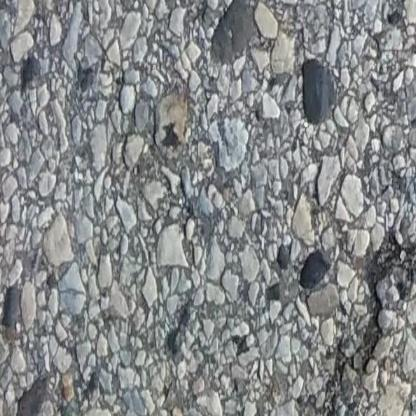Cracks: (314, 228, 416, 416)
